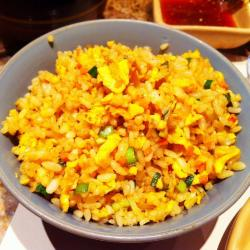rice: (23, 46, 223, 214)
